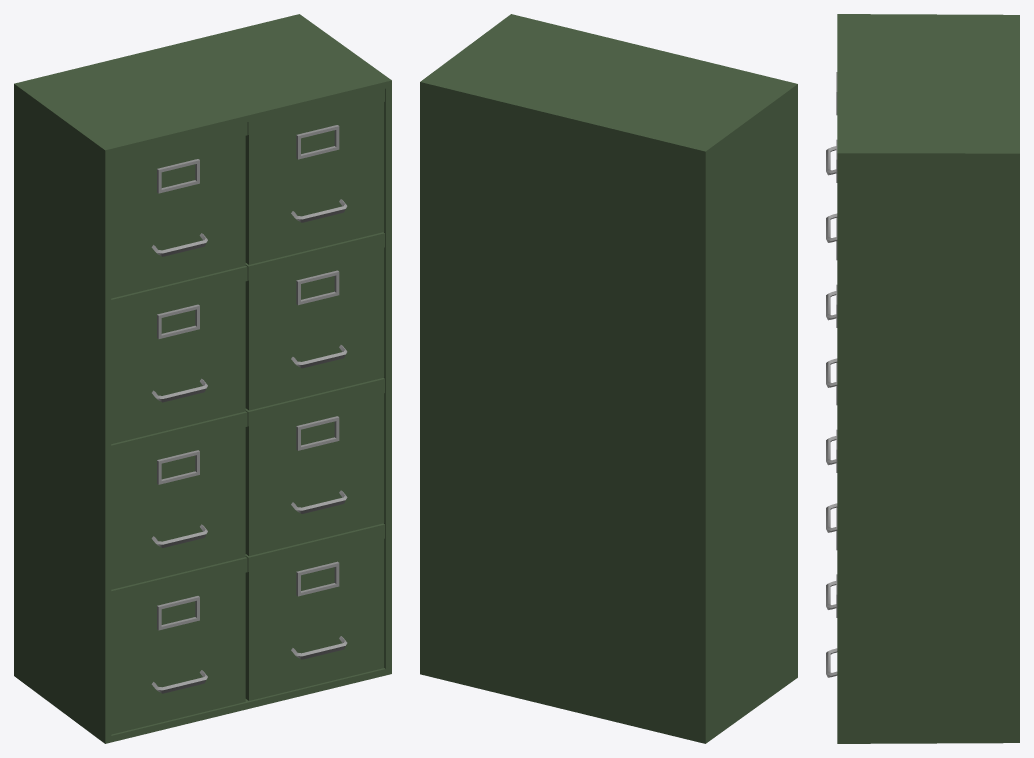
File: SM_locker_01.fbx
3 renders of one model, left to right at view 1: azimuth 30°, elevation 25°; view 2: azimuth 150°, elevation 25°; view 3: azimuth 270°, elevation 25°, orthographic.
Visible parts, largest first — view 1: Box022; view 2: Box022; view 3: Box022.
Boxes of the visible parts, x1,y1,x2,y2 form: Box022: (14, 14, 391, 743); Box022: (420, 14, 797, 743); Box022: (826, 14, 1019, 743).
Size of the model in its own units: 42.06 by 83.2 by 24.75.
